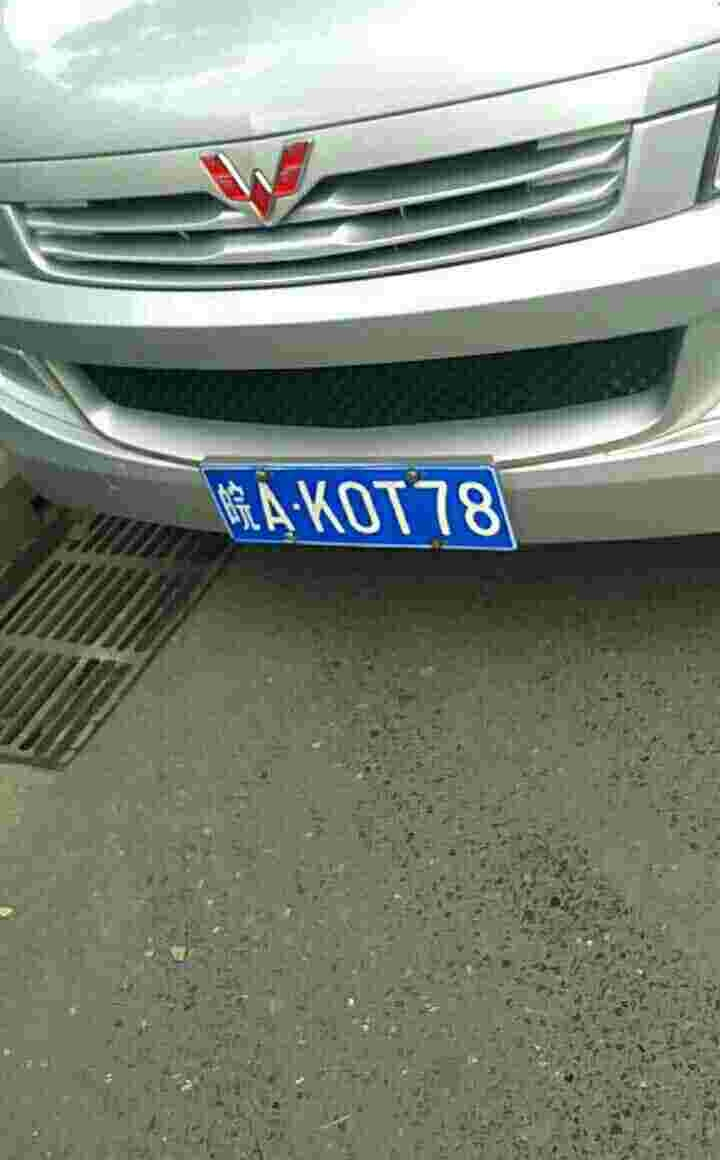license_plate: (198, 468, 522, 556)
